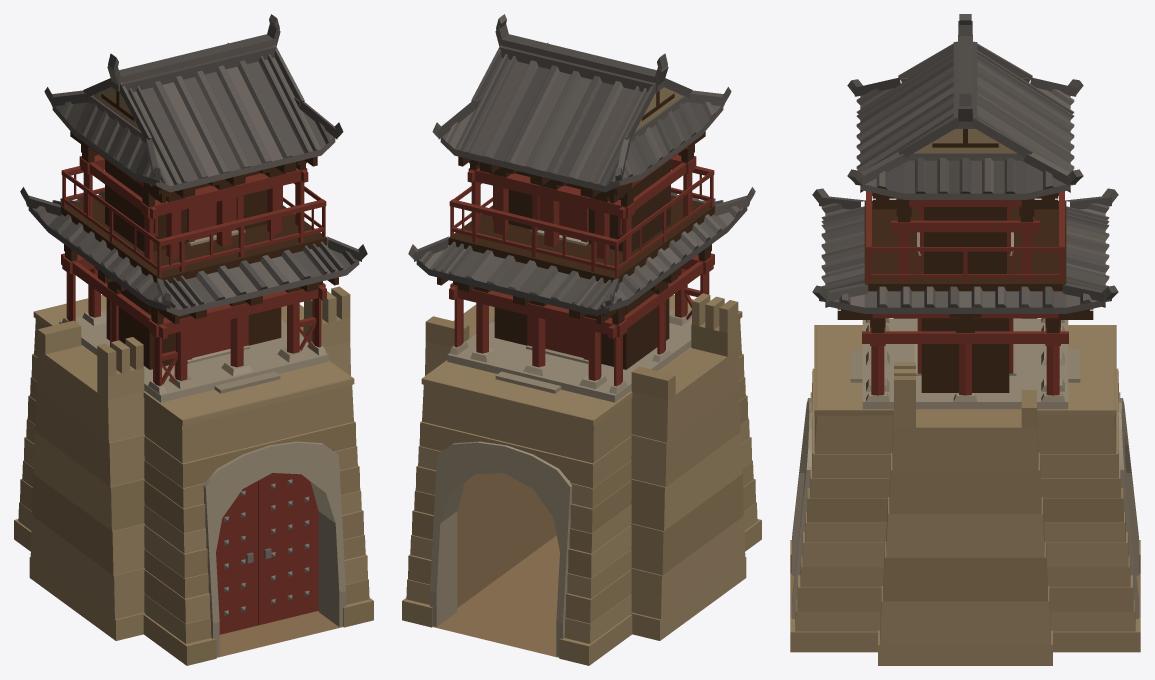
File: city_gate.glb
The picture shows the model from 3 angles, left to right: view 1: azimuth 30°, elevation 25°; view 2: azimuth 150°, elevation 25°; view 3: azimuth 270°, elevation 25°; orthographic projection.
Visible parts, largest first — view 1: gatehouse-body, door-r-leaf, door-l-leaf; view 2: gatehouse-body; view 3: gatehouse-body.
Part boxes in pixels (x1=…): gatehouse-body: x1=14, y1=14, x2=373, y2=665; door-r-leaf: x1=258, y1=473, x2=318, y2=625; door-l-leaf: x1=216, y1=481, x2=257, y2=634; gatehouse-body: x1=402, y1=14, x2=761, y2=665; gatehouse-body: x1=790, y1=14, x2=1140, y2=665.
Size of the model in its own units: 6.48 by 13.9 by 8.
